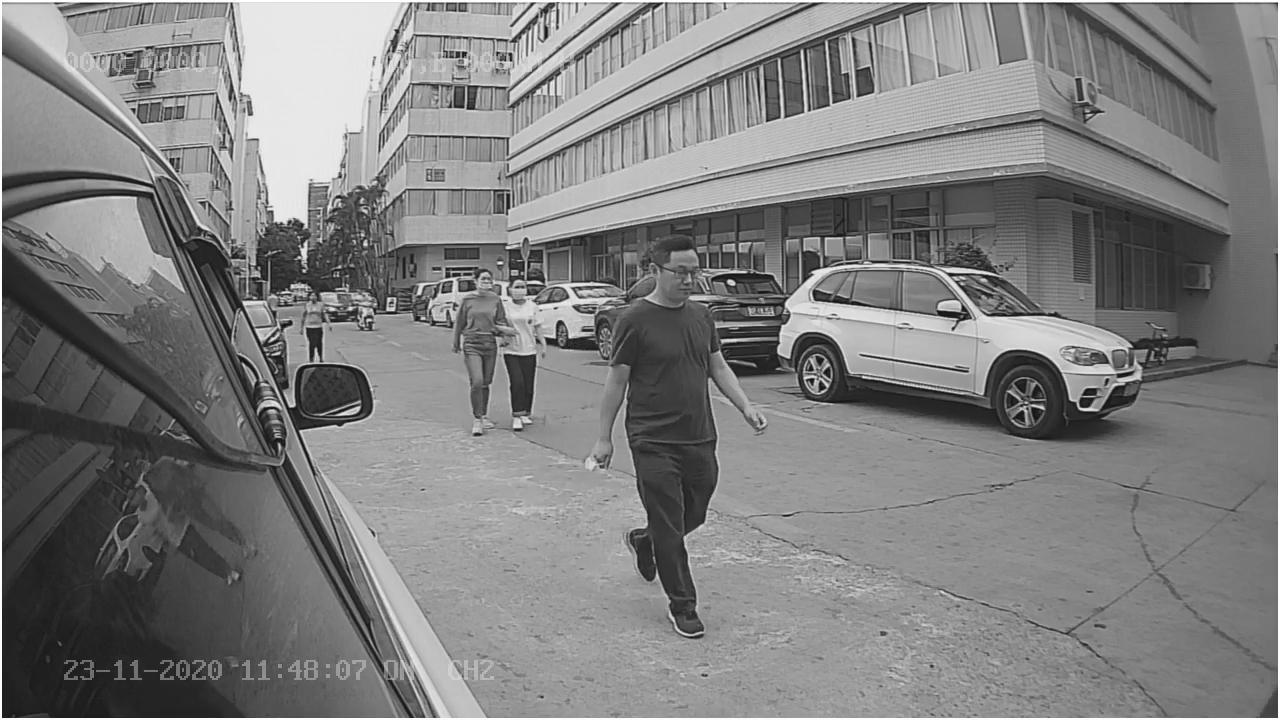person: (592, 237, 767, 637), (450, 267, 513, 437)
